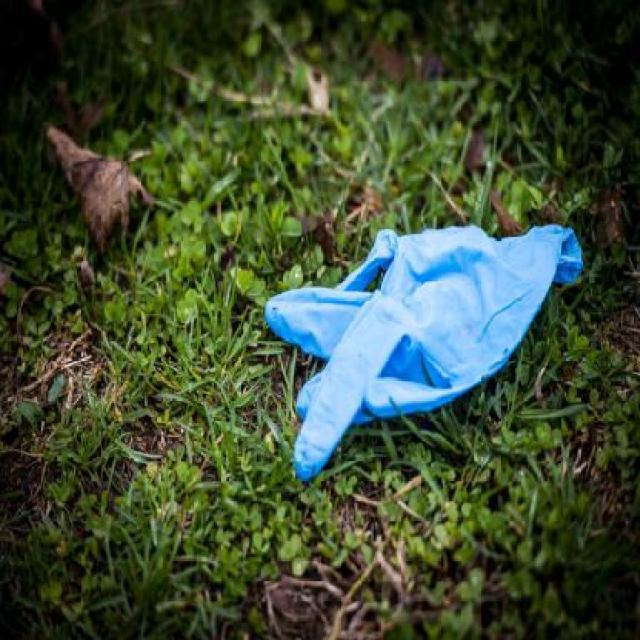glove_hand: (255, 219, 588, 487)
